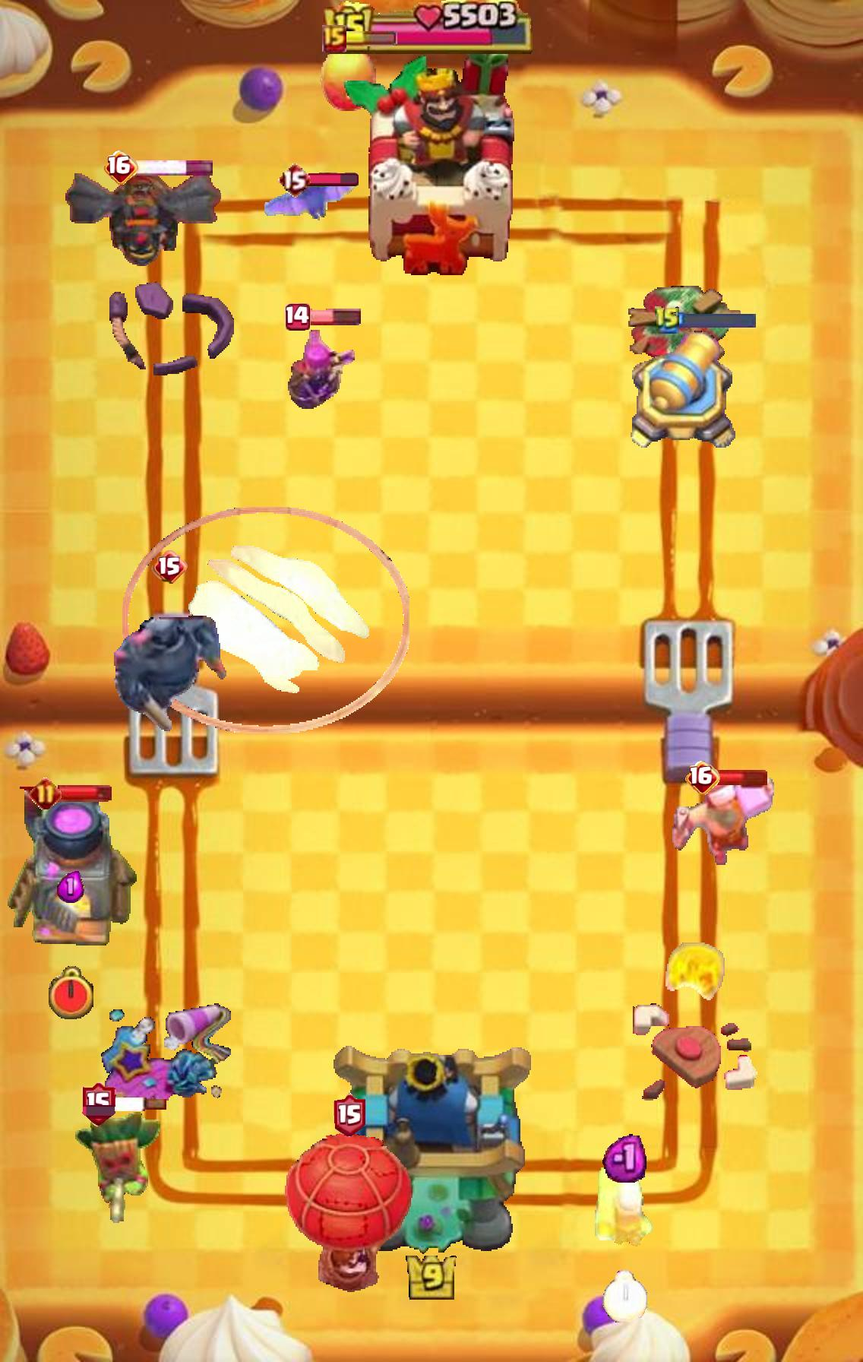cannon: (625, 322, 744, 459)
elixir: (602, 1131, 646, 1183), (57, 869, 84, 903)
fireball: (659, 940, 729, 1013)
